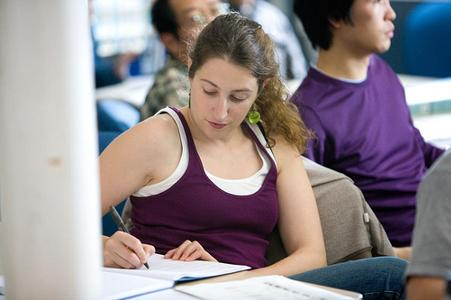person: (98, 14, 414, 299)
